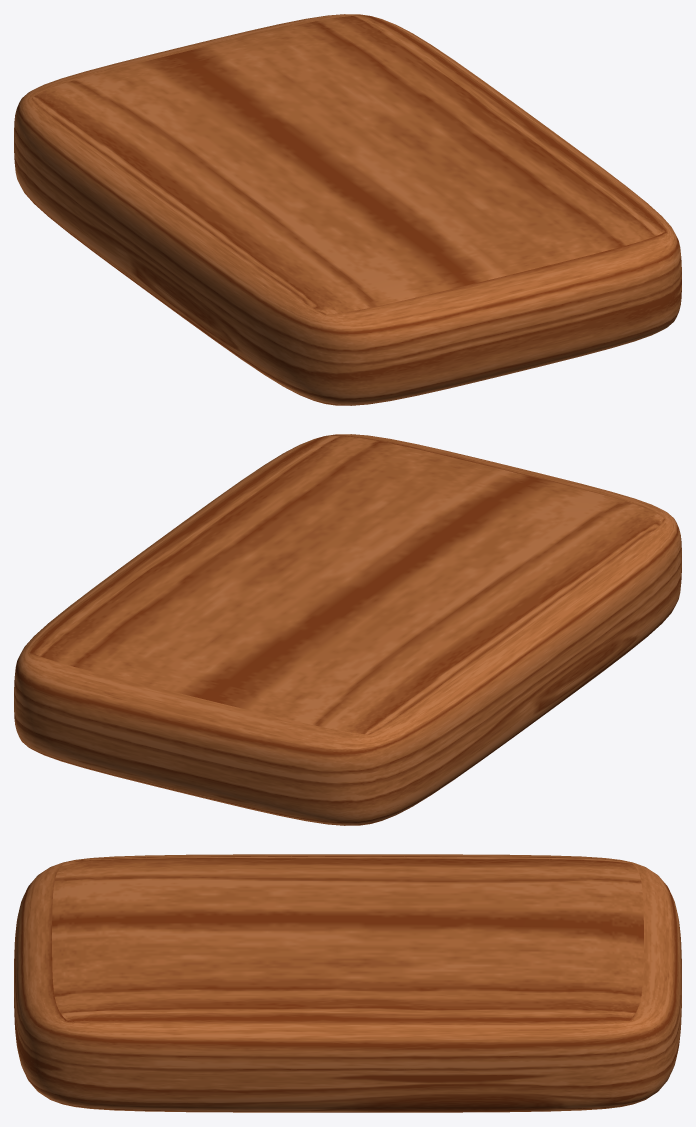
Rendered from CardBase.fbx.
3 views of the same model, one above another, from view 1: azimuth 30°, elevation 25°; view 2: azimuth 150°, elevation 25°; view 3: azimuth 270°, elevation 25° (orthographic). The views are drawn at different scales.
Parts seen in each view (by area): view 1: Tile; view 2: Tile; view 3: Tile.
Boxes of the visible parts, x1,y1,x2,y2 form: Tile: (14, 14, 681, 405); Tile: (14, 434, 681, 825); Tile: (14, 854, 681, 1112).
Bounding box in the file's own units: 292 × 73 × 438.
Materials: 1 (1 with a texture image).
